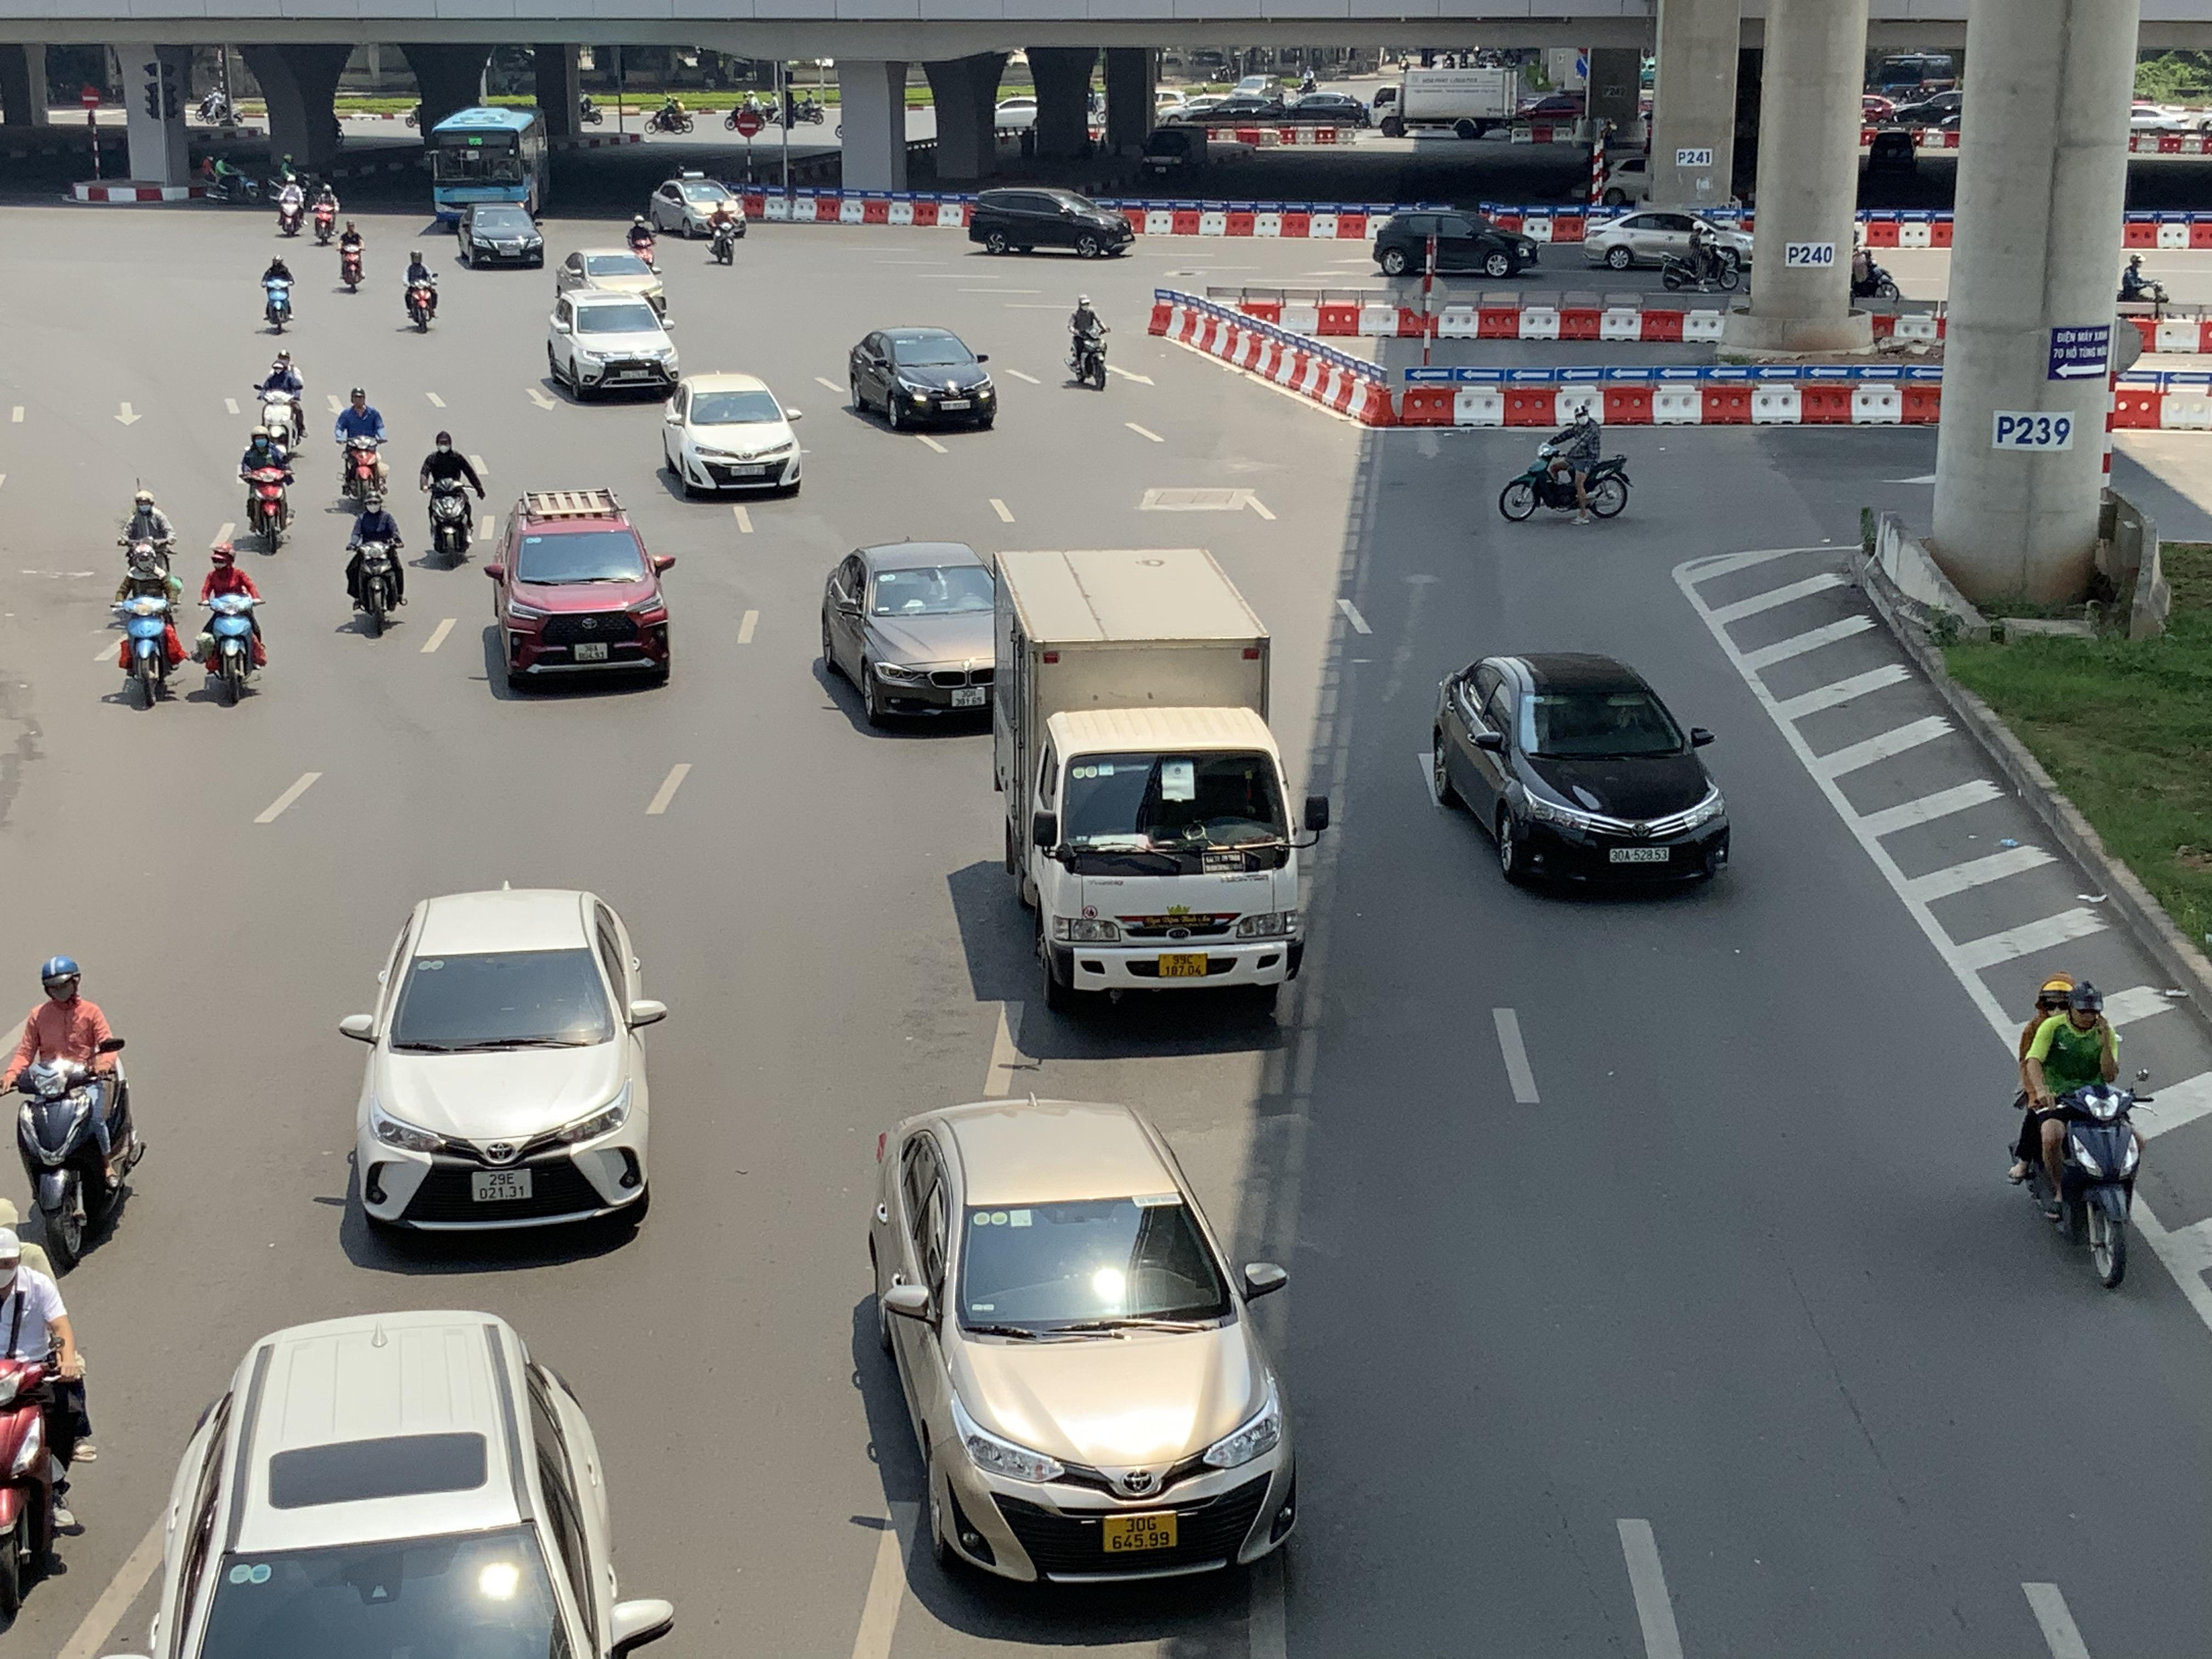BSD: (1609, 845, 1672, 863)
BSV: (1103, 1513, 1177, 1551), (472, 1171, 533, 1202), (1158, 953, 1205, 978), (951, 687, 986, 708), (573, 643, 610, 660)
bus: (427, 101, 549, 230)
car: (862, 1094, 1301, 1598), (125, 1307, 674, 1659), (338, 887, 669, 1253), (1428, 650, 1731, 896), (482, 486, 676, 697), (815, 540, 1008, 732), (658, 371, 805, 500), (846, 326, 996, 432), (545, 286, 681, 403), (1371, 204, 1543, 279), (963, 185, 1132, 258), (1583, 206, 1752, 270), (554, 247, 669, 315), (650, 174, 745, 239), (456, 204, 545, 270)
motorbike: (2, 955, 145, 1276), (2012, 974, 2151, 1293), (0, 1216, 92, 1640), (1500, 401, 1632, 523), (110, 545, 185, 709), (197, 540, 266, 708), (343, 490, 408, 638), (420, 429, 484, 570), (239, 423, 296, 556), (115, 488, 179, 598), (333, 385, 388, 511), (1658, 213, 1747, 291), (253, 350, 307, 450), (1064, 295, 1109, 390), (200, 148, 261, 207), (402, 247, 441, 331), (260, 251, 296, 335), (334, 218, 366, 295), (273, 169, 307, 239), (705, 199, 738, 267), (648, 91, 693, 138), (310, 176, 340, 246), (627, 213, 657, 270)
truck: (988, 544, 1332, 1011), (1367, 70, 1521, 141)
